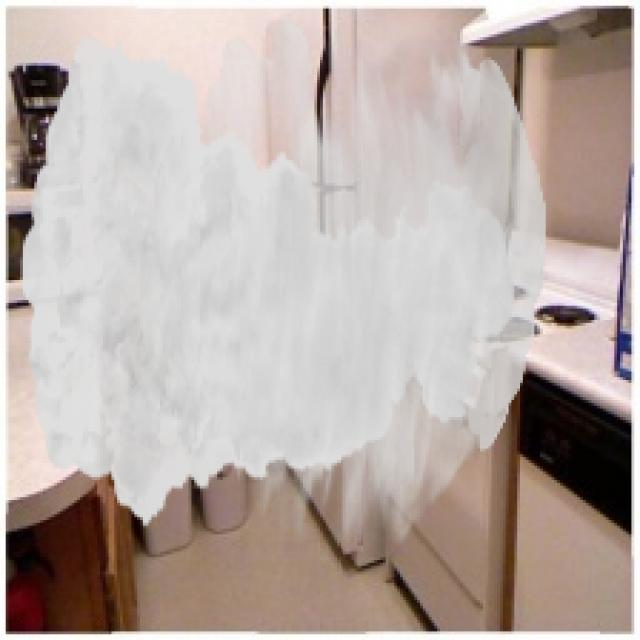smoke: (20, 17, 546, 549)
